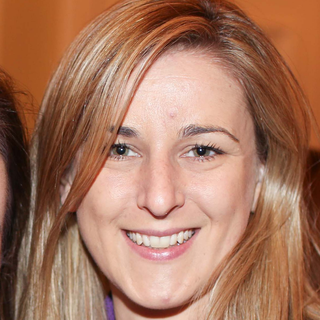eye: (180, 140, 228, 164), (104, 138, 145, 165)
